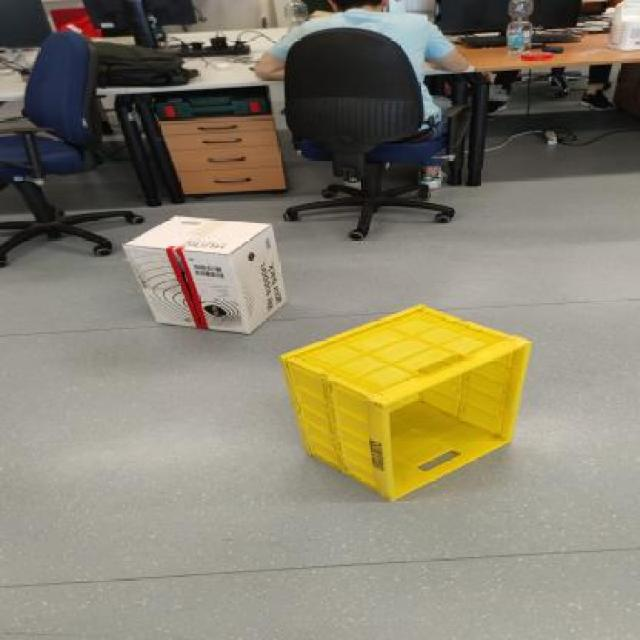box: (268, 292, 535, 516), (93, 212, 304, 336)
